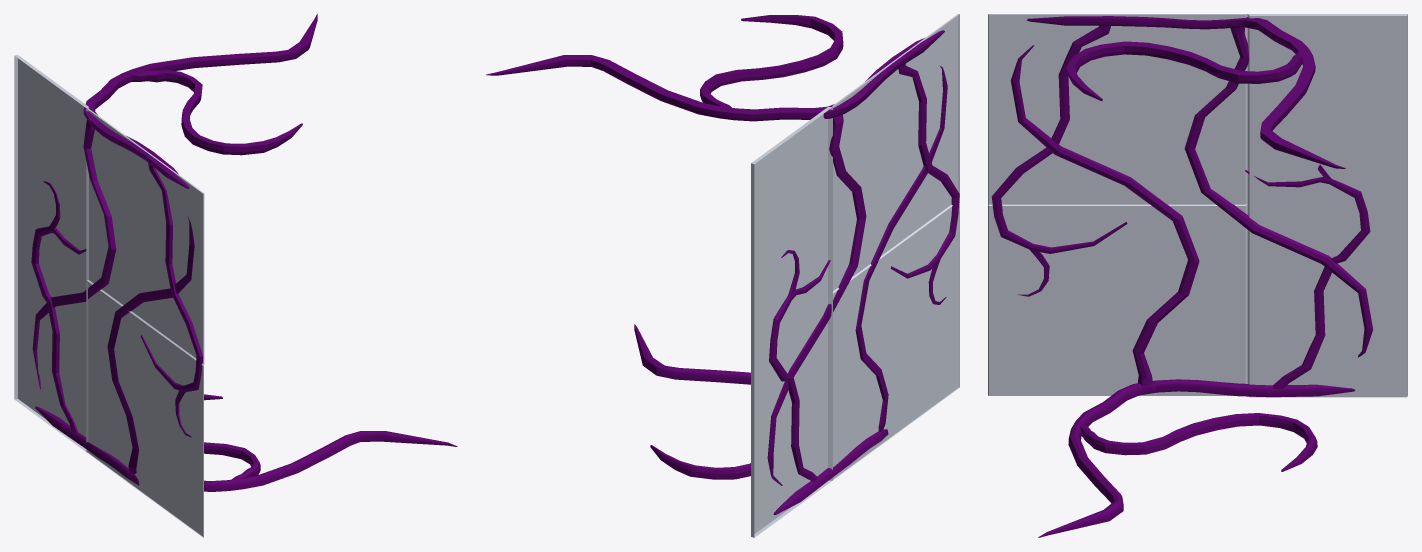
File: Pared_Corrupta_01.fbx
3 views of the same model, side by side, from view 1: azimuth 30°, elevation 25°; view 2: azimuth 150°, elevation 25°; view 3: azimuth 270°, elevation 25° (orthographic). The views are drawn at different scales.
Parts seen in each view (by area): view 1: polySurface54, pCube175, pCube174; view 2: polySurface54, pCube175, pCube174; view 3: polySurface54, pCube174, pCube175.
Boxes of the visible parts, left/top/right/bottom form: polySurface54: left=14, top=55, right=204, bottom=537; pCube175: left=32, top=14, right=317, bottom=437; pCube174: left=31, top=181, right=457, bottom=491; polySurface54: left=751, top=14, right=959, bottom=537; pCube175: left=486, top=15, right=959, bottom=485; pCube174: left=634, top=65, right=947, bottom=514; polySurface54: left=988, top=14, right=1407, bottom=397; pCube174: left=1010, top=45, right=1370, bottom=537; pCube175: left=991, top=16, right=1373, bottom=357.
Size of the model in its own units: 5.15 by 6.01 by 5.98.
